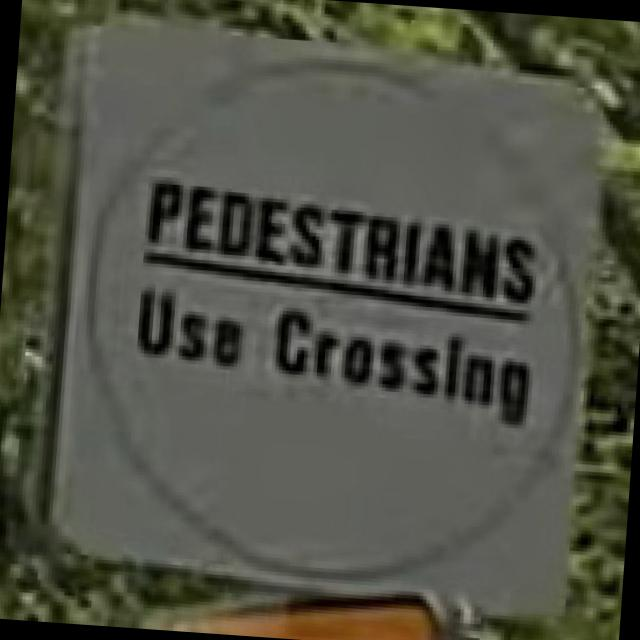pedestriancrossing_sign: (16, 6, 618, 624)
